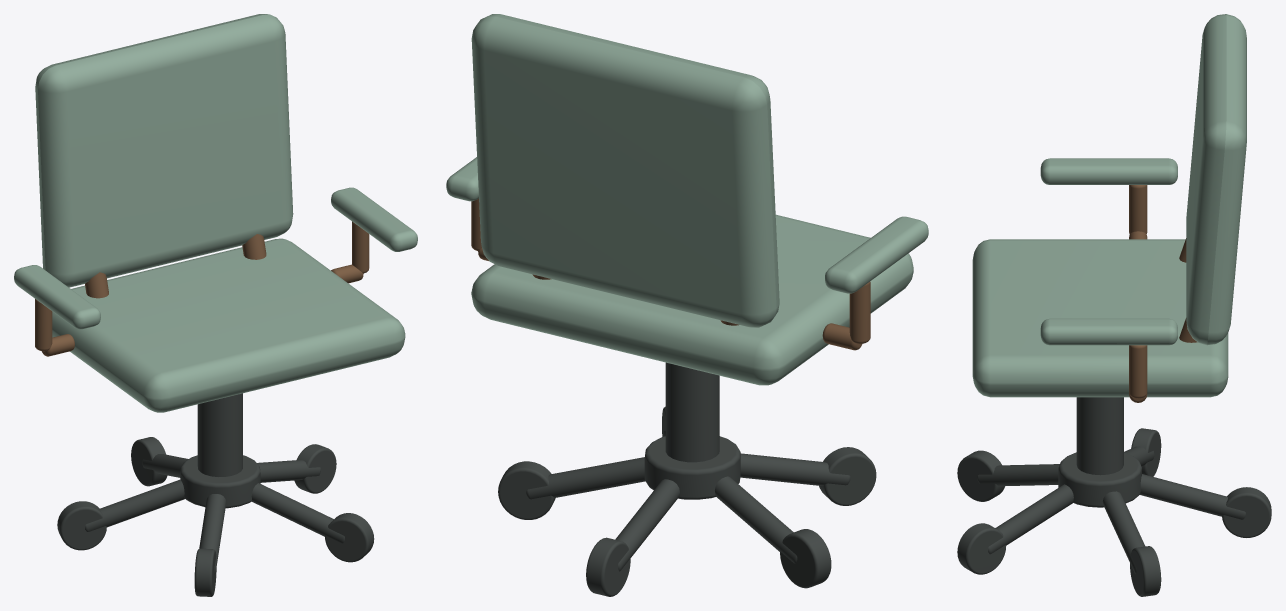
File: chair_acnh_32.glb
The picture shows the model from 3 angles, left to right: view 1: azimuth 30°, elevation 25°; view 2: azimuth 150°, elevation 25°; view 3: azimuth 270°, elevation 25°; orthographic projection. The views are drawn at different scales.
Visible parts, largest first — view 1: Chair Padded Back, Chair Padded Seat, Chair Stem, Armrest Pad, Armrest Pad.001, Chair Hub, Caster Arm.002, Caster Arm.004, Caster Wheel.002, Caster Wheel.004, Caster Wheel, Caster Arm.003 (+6 smaller); view 2: Chair Padded Back, Chair Padded Seat, Chair Stem, Armrest Pad, Chair Hub, Caster Arm, Caster Arm.003, Caster Wheel, Caster Arm.002, Caster Wheel.003, Caster Wheel.002, Caster Arm.001 (+4 smaller); view 3: Chair Padded Seat, Chair Padded Back, Armrest Pad.001, Chair Stem, Armrest Pad, Chair Hub, Caster Arm.001, Caster Arm.004, Caster Wheel.001, Caster Wheel.004, Caster Wheel.003, Caster Arm.003 (+5 smaller).
Boxes of the visible parts, box(x1,y1,x2,y2) form: Chair Padded Back: box(35, 14, 293, 287); Chair Padded Seat: box(52, 238, 405, 412); Chair Stem: box(197, 393, 242, 476); Armrest Pad: box(14, 265, 100, 329); Armrest Pad.001: box(331, 187, 417, 251); Chair Hub: box(180, 455, 260, 508); Caster Arm.002: box(85, 479, 184, 531); Caster Arm.004: box(251, 483, 344, 543); Caster Wheel.002: box(57, 501, 106, 550); Caster Wheel.004: box(325, 513, 374, 562); Caster Wheel: box(294, 444, 336, 493); Caster Arm.003: box(199, 494, 226, 574); Chair Padded Back: box(471, 14, 779, 327); Chair Padded Seat: box(471, 214, 913, 385); Chair Stem: box(665, 362, 719, 462); Armrest Pad: box(825, 216, 928, 293); Chair Hub: box(644, 436, 740, 499); Caster Arm: box(526, 457, 645, 499); Caster Arm.003: box(740, 453, 850, 485); Caster Wheel: box(498, 461, 555, 519); Caster Arm.002: box(715, 476, 797, 563); Caster Wheel.003: box(819, 447, 876, 505); Caster Wheel.002: box(780, 529, 831, 588); Caster Arm.001: box(615, 479, 679, 571); Chair Padded Seat: box(972, 239, 1228, 397); Chair Padded Back: box(1186, 14, 1246, 345); Armrest Pad.001: box(1040, 318, 1177, 345); Chair Stem: box(1076, 397, 1123, 475); Armrest Pad: box(1040, 158, 1177, 184); Chair Hub: box(1058, 452, 1141, 507); Caster Arm.001: box(1139, 474, 1245, 519); Caster Arm.004: box(988, 484, 1073, 554); Caster Wheel.001: box(1222, 487, 1271, 537); Caster Wheel.004: box(957, 523, 1006, 574); Caster Wheel.003: box(957, 450, 1004, 501); Caster Arm.003: box(977, 464, 1059, 486).
Bounding box in the file's own units: 0.315 × 0.3937 × 0.2403.
